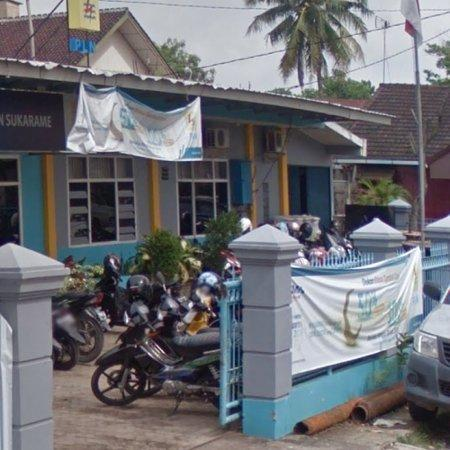motorcycles: (91, 321, 219, 406), (53, 294, 104, 364)
